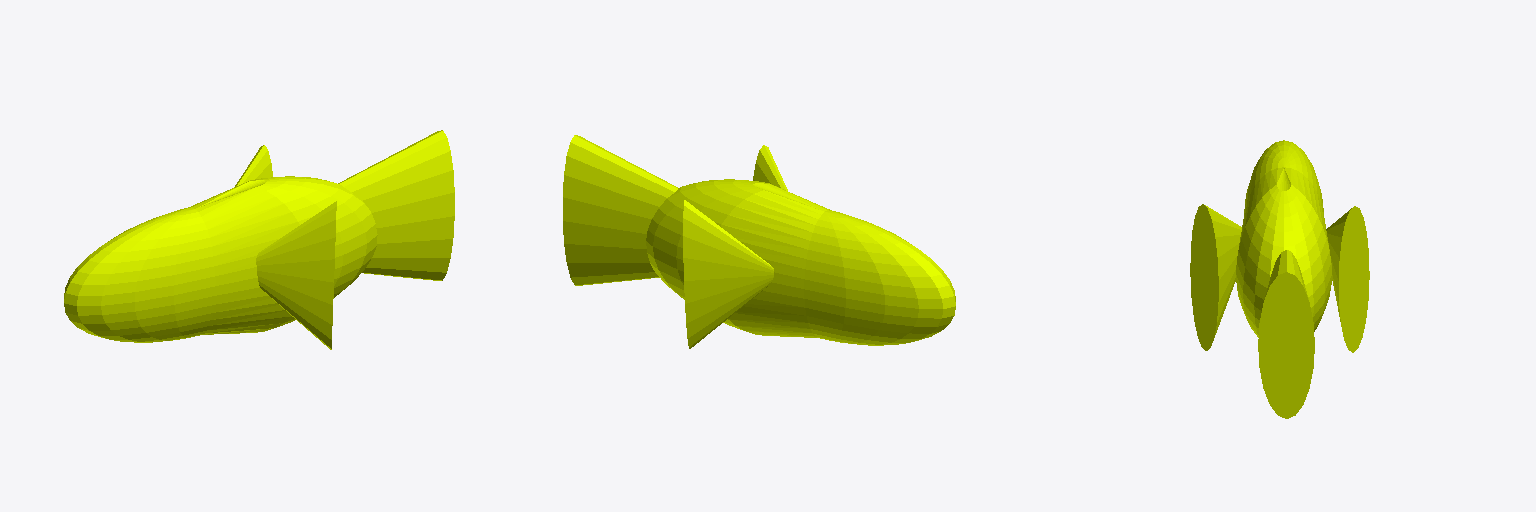
The model's file is fish4.obj.
3 views of the same model, side by side, from view 1: azimuth 30°, elevation 25°; view 2: azimuth 150°, elevation 25°; view 3: azimuth 270°, elevation 25° (orthographic).
Visible parts, largest first — view 1: pCone4; view 2: pCone4; view 3: pCone4.
Boxes of the visible parts, x1=… form: pCone4: x1=64, y1=130, x2=454, y2=349; pCone4: x1=563, y1=135, x2=955, y2=348; pCone4: x1=1190, y1=140, x2=1369, y2=418.
Size of the model in its own units: 543 by 209 by 221.